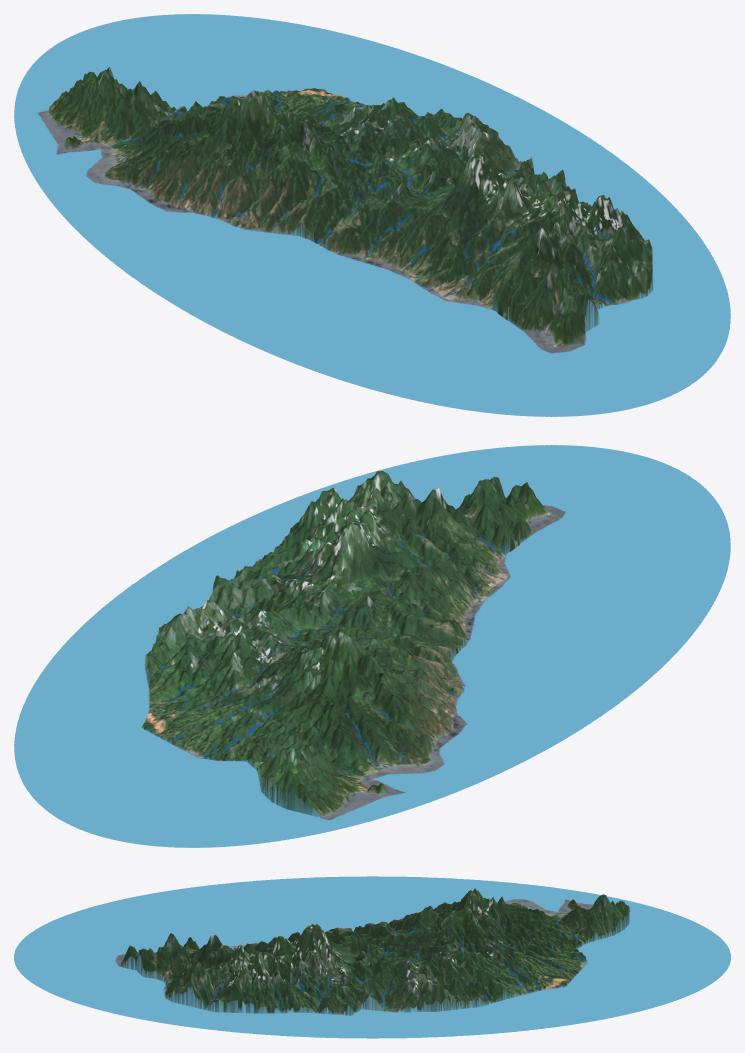
File: DMA-previa-terrain.glb
The picture shows the model from 3 angles, top to bottom: view 1: azimuth 30°, elevation 25°; view 2: azimuth 150°, elevation 25°; view 3: azimuth 270°, elevation 25°; orthographic projection. The views are drawn at different scales.
Visible parts, largest first — view 1: Dominica; view 2: Dominica; view 3: Dominica.
Boxes of the visible parts, bbox=[...] form: Dominica: bbox=[14, 14, 730, 416]; Dominica: bbox=[14, 445, 730, 847]; Dominica: bbox=[14, 876, 730, 1038].
Size of the model in its own units: 1.31 by 0.2073 by 2.45.
Materials: 1 (1 with a texture image).
